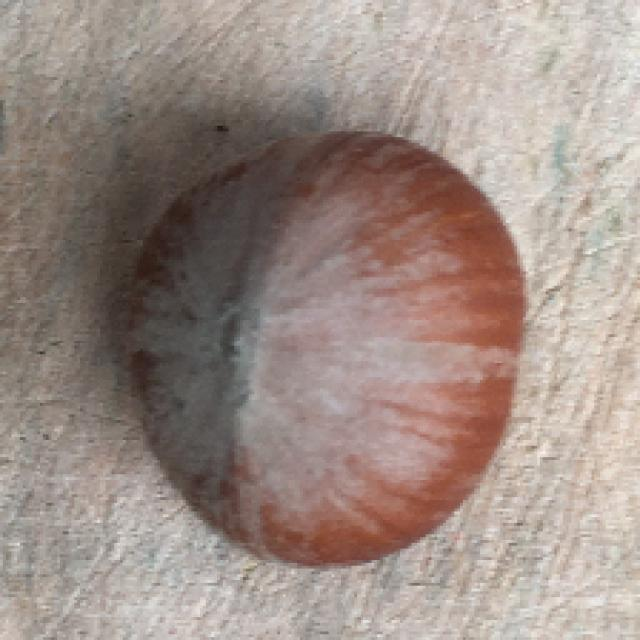QualityHazelnut: (119, 122, 525, 567)
